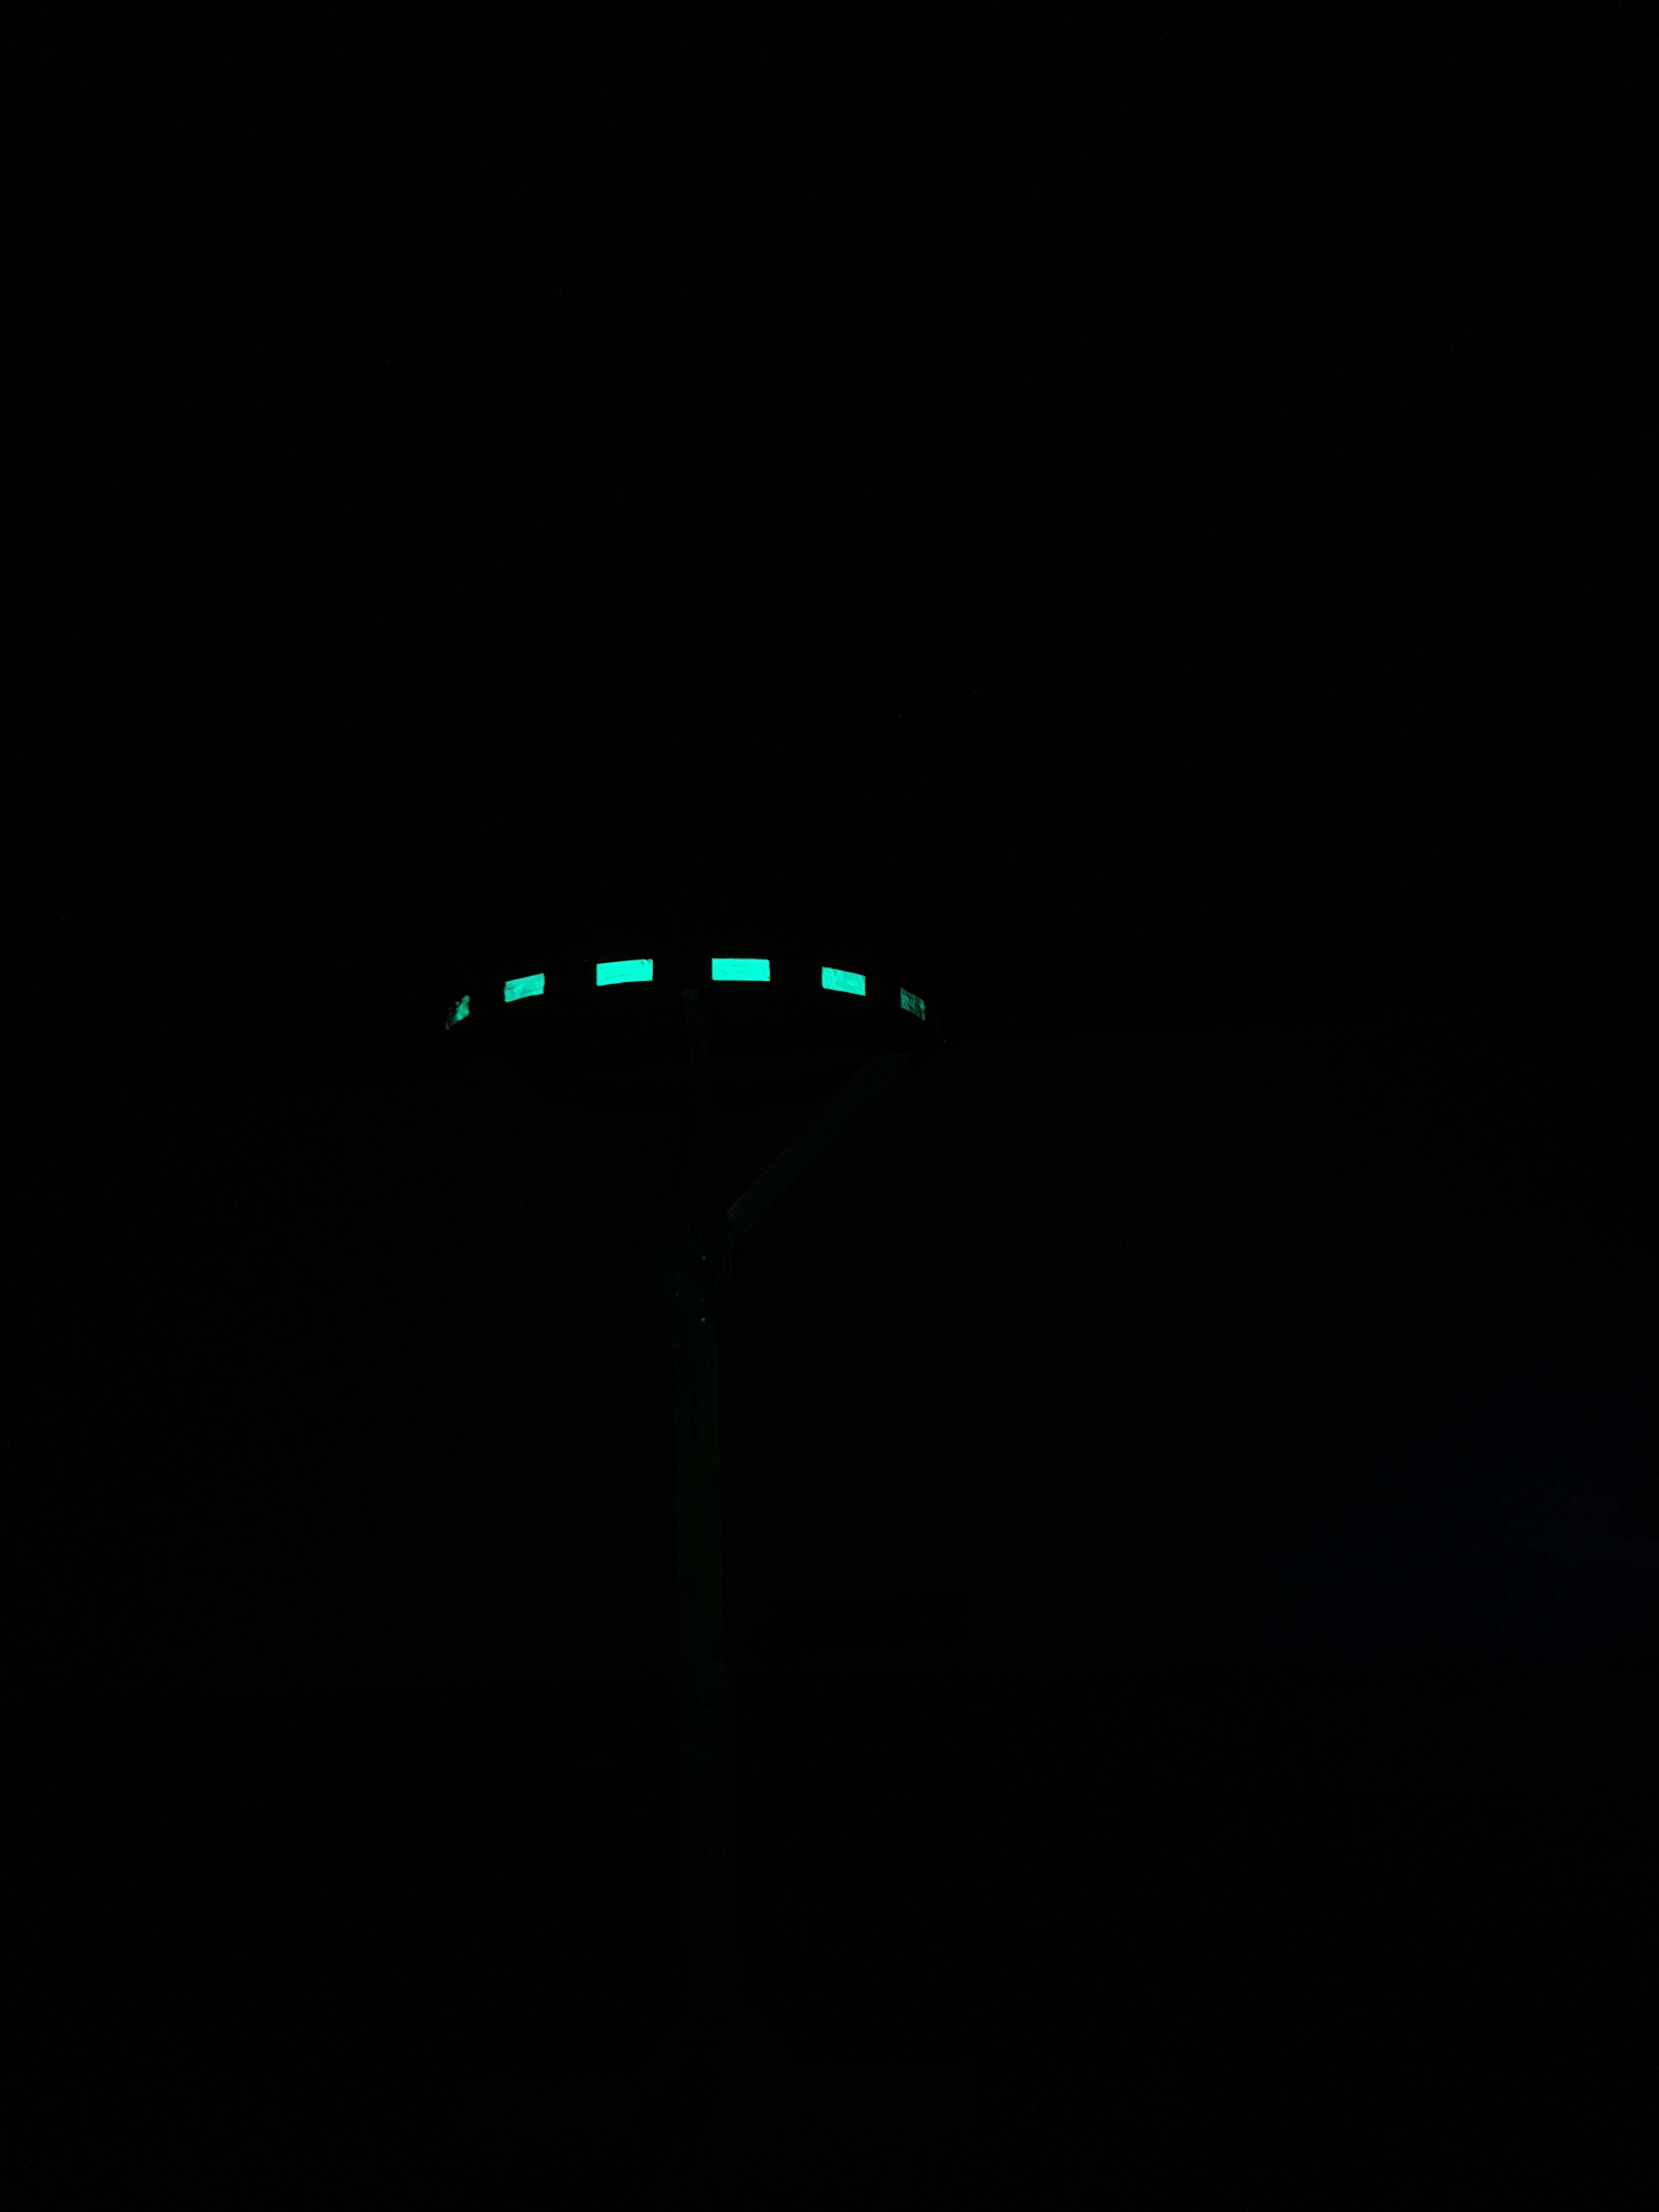hoop: (448, 948, 931, 1035)
